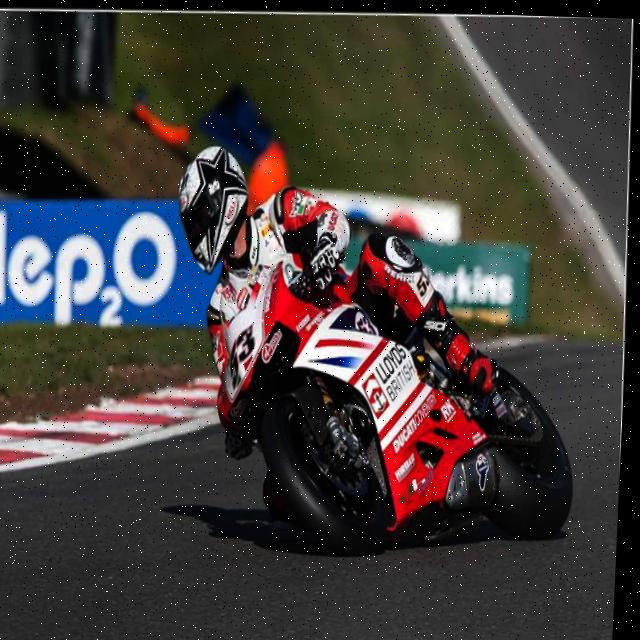motorcycle: (196, 249, 590, 563)
